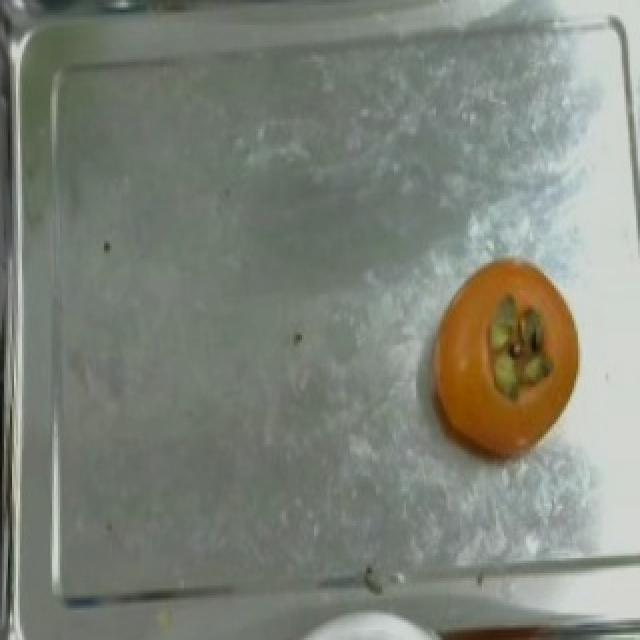Fruit: (420, 243, 592, 474)
